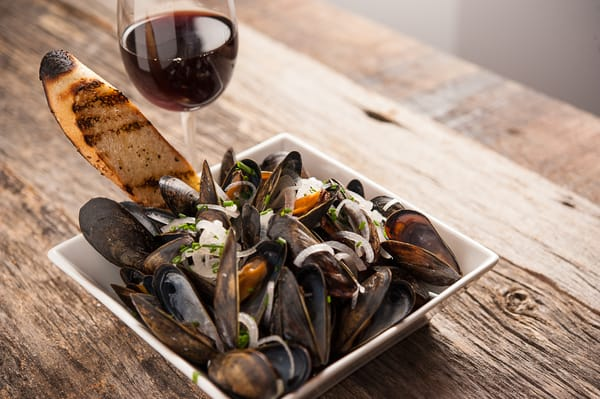soup: (38, 48, 199, 209)
sushi: (39, 147, 495, 394)
